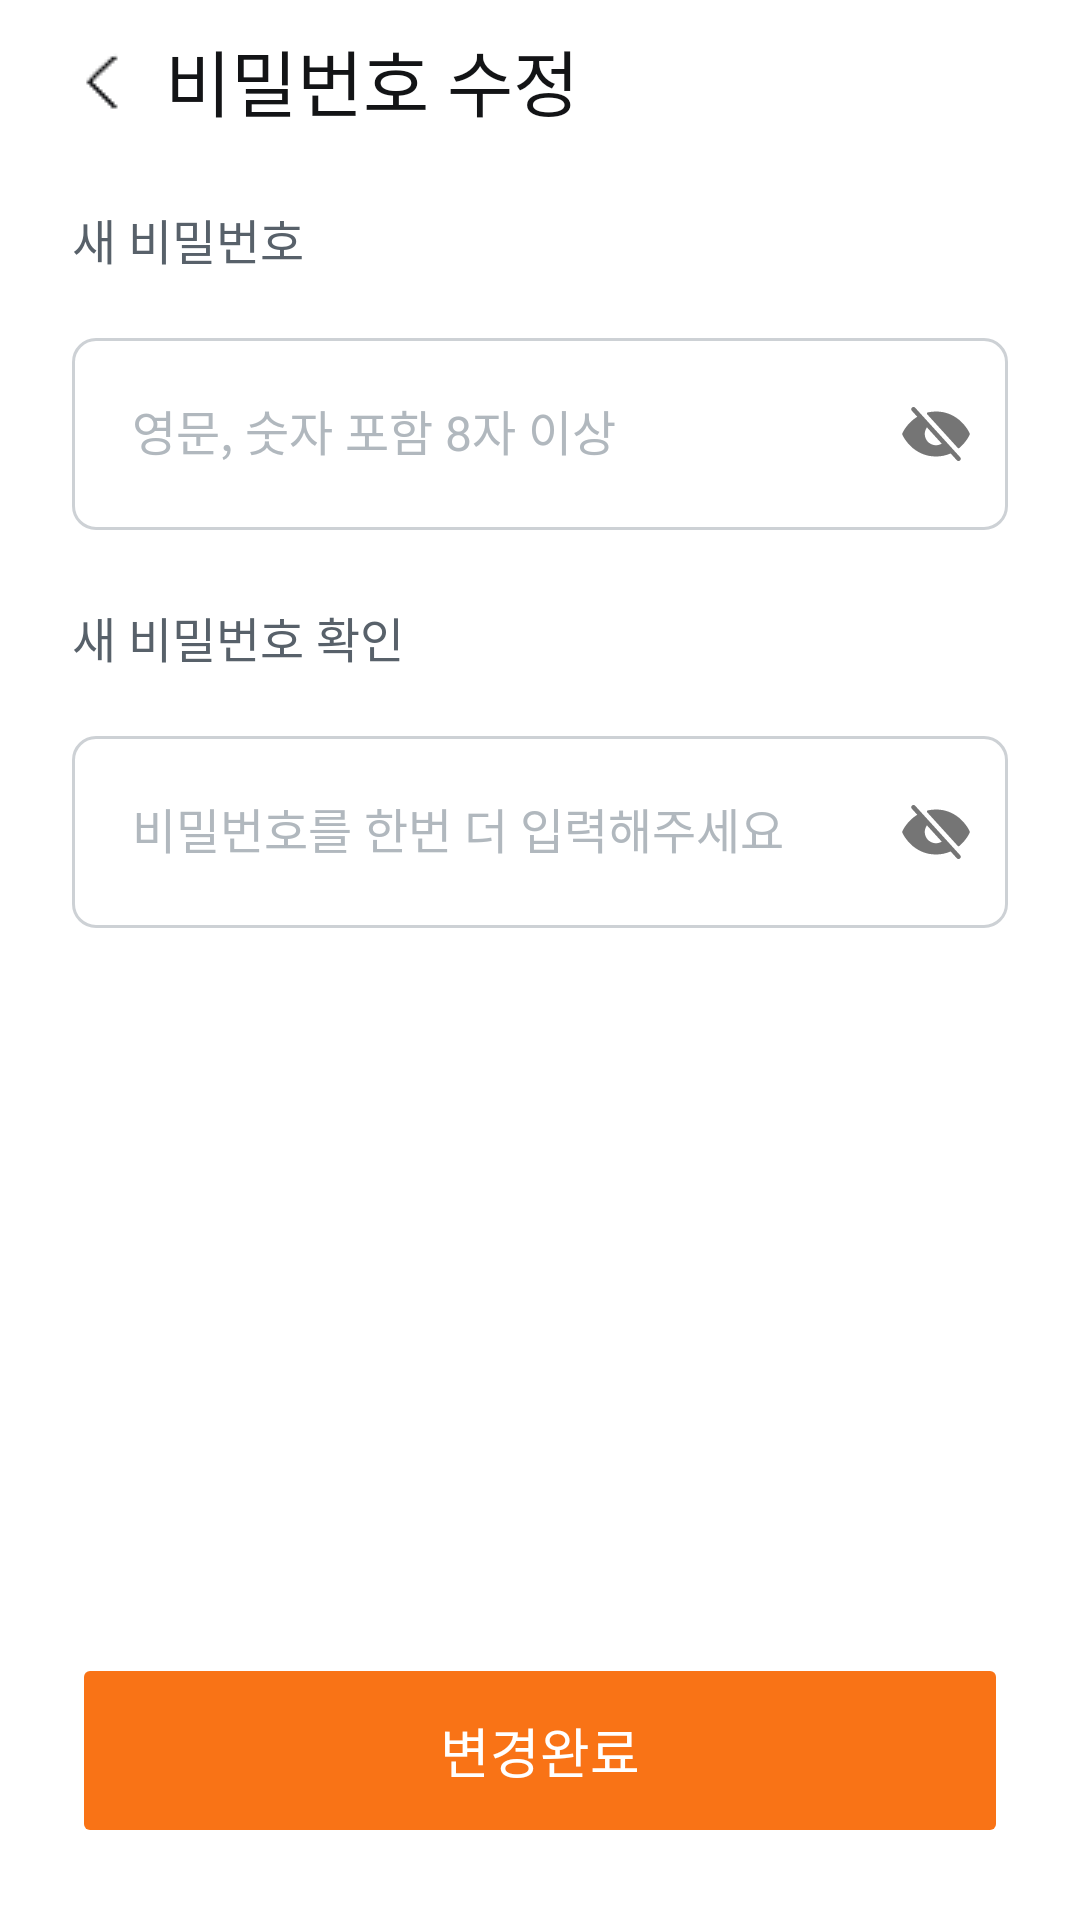

Where to tap for icons on this 1080×1920 app screen, as (x=x, y=y):
back: (x=102, y=82)
